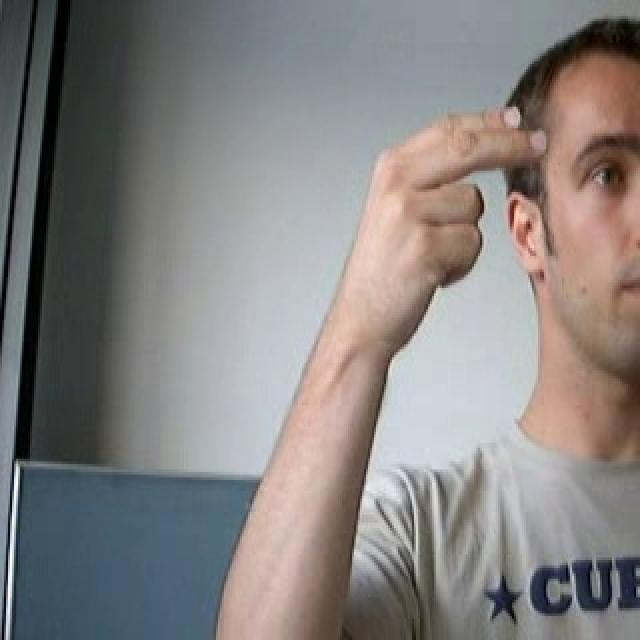H: (344, 68, 561, 354)
